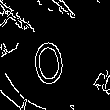O_N: (35, 23, 75, 87)
